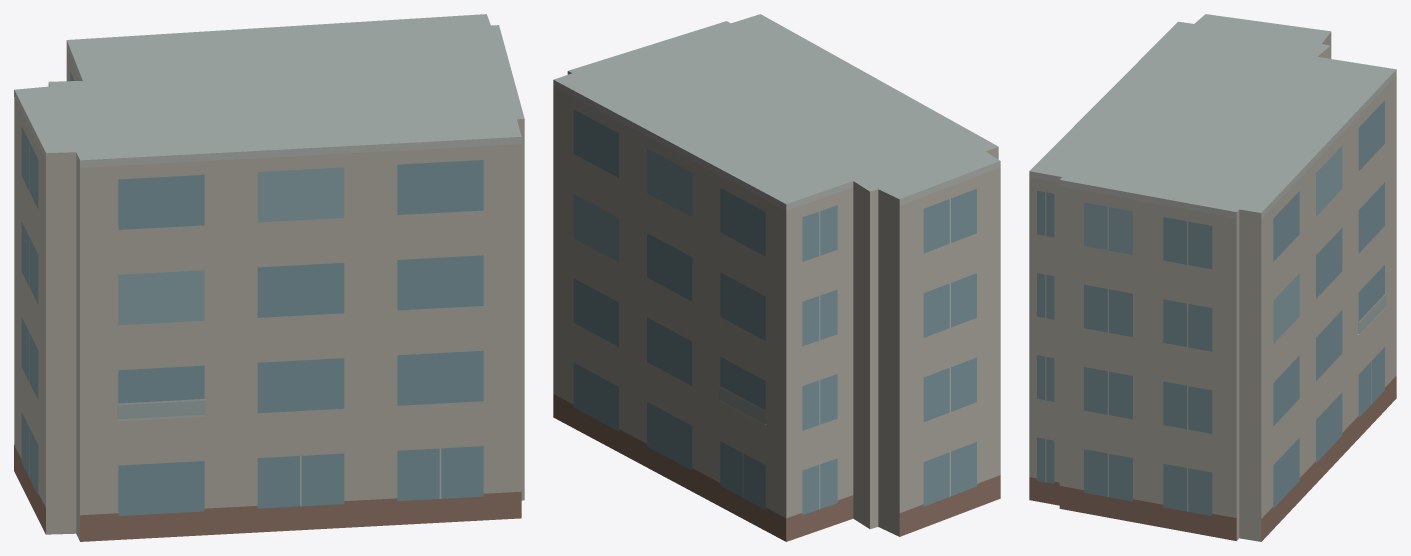
The model's file is survey-upis-32938811.glb.
3 renders of one model, left to right at view 1: azimuth 30°, elevation 25°; view 2: azimuth 150°, elevation 25°; view 3: azimuth 270°, elevation 25°, orthographic. The views are drawn at different scales.
Parts seen in each view (by area): view 1: survey-upis-32938811.tmp; view 2: survey-upis-32938811.tmp; view 3: survey-upis-32938811.tmp.
Part boxes in pixels (left/top/right/bottom): survey-upis-32938811.tmp: left=14, top=14, right=524, bottom=541; survey-upis-32938811.tmp: left=553, top=14, right=1000, bottom=541; survey-upis-32938811.tmp: left=1029, top=14, right=1396, bottom=541.
Bounding box in the file's own units: 16.49 × 12.7 × 12.86.
